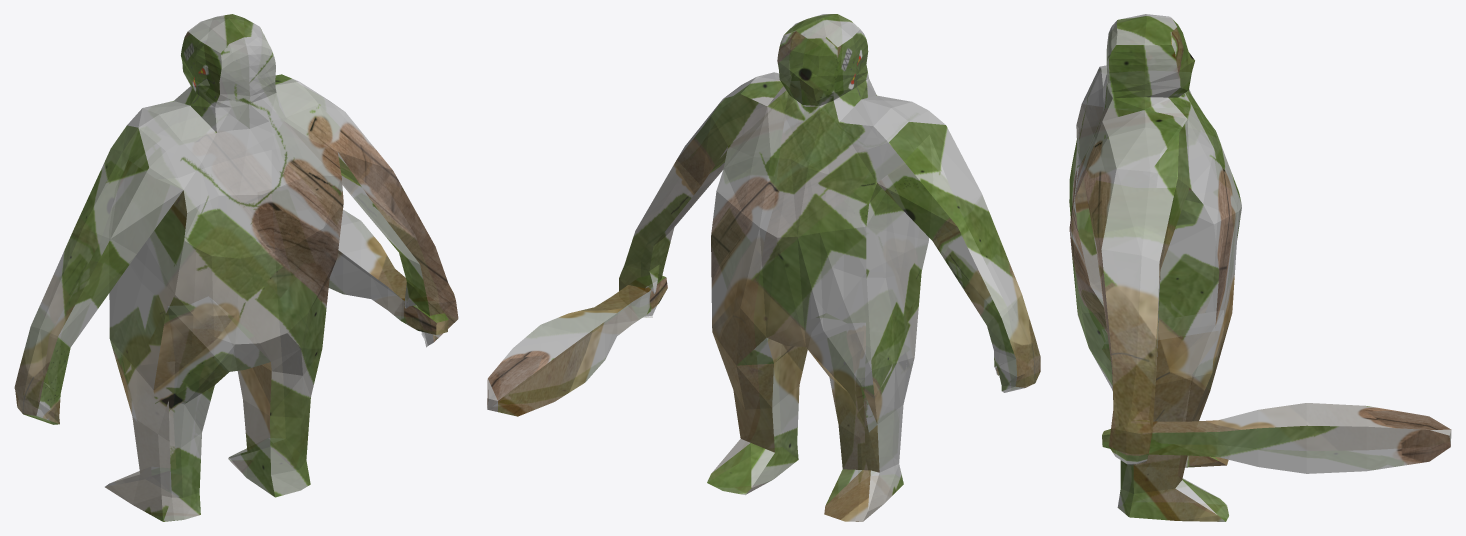
Rendered from Enemigo21.obj.
The picture shows the model from 3 angles, left to right: view 1: azimuth 30°, elevation 25°; view 2: azimuth 150°, elevation 25°; view 3: azimuth 270°, elevation 25°; orthographic projection. The views are drawn at different scales.
Visible parts, largest first — view 1: Cube; view 2: Cube; view 3: Cube.
Part boxes in pixels (x1,y1,x2,y2): Cube: (14, 14, 458, 521); Cube: (487, 14, 1040, 521); Cube: (1069, 14, 1451, 521).
Size of the model in its own units: 2.52 by 2.71 by 1.99.
Materials: 1 (1 with a texture image).
